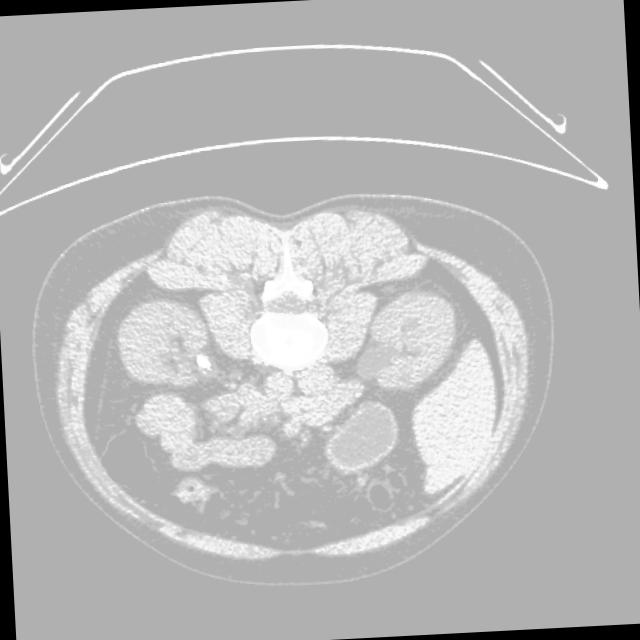STONE: (147, 347, 416, 542)
